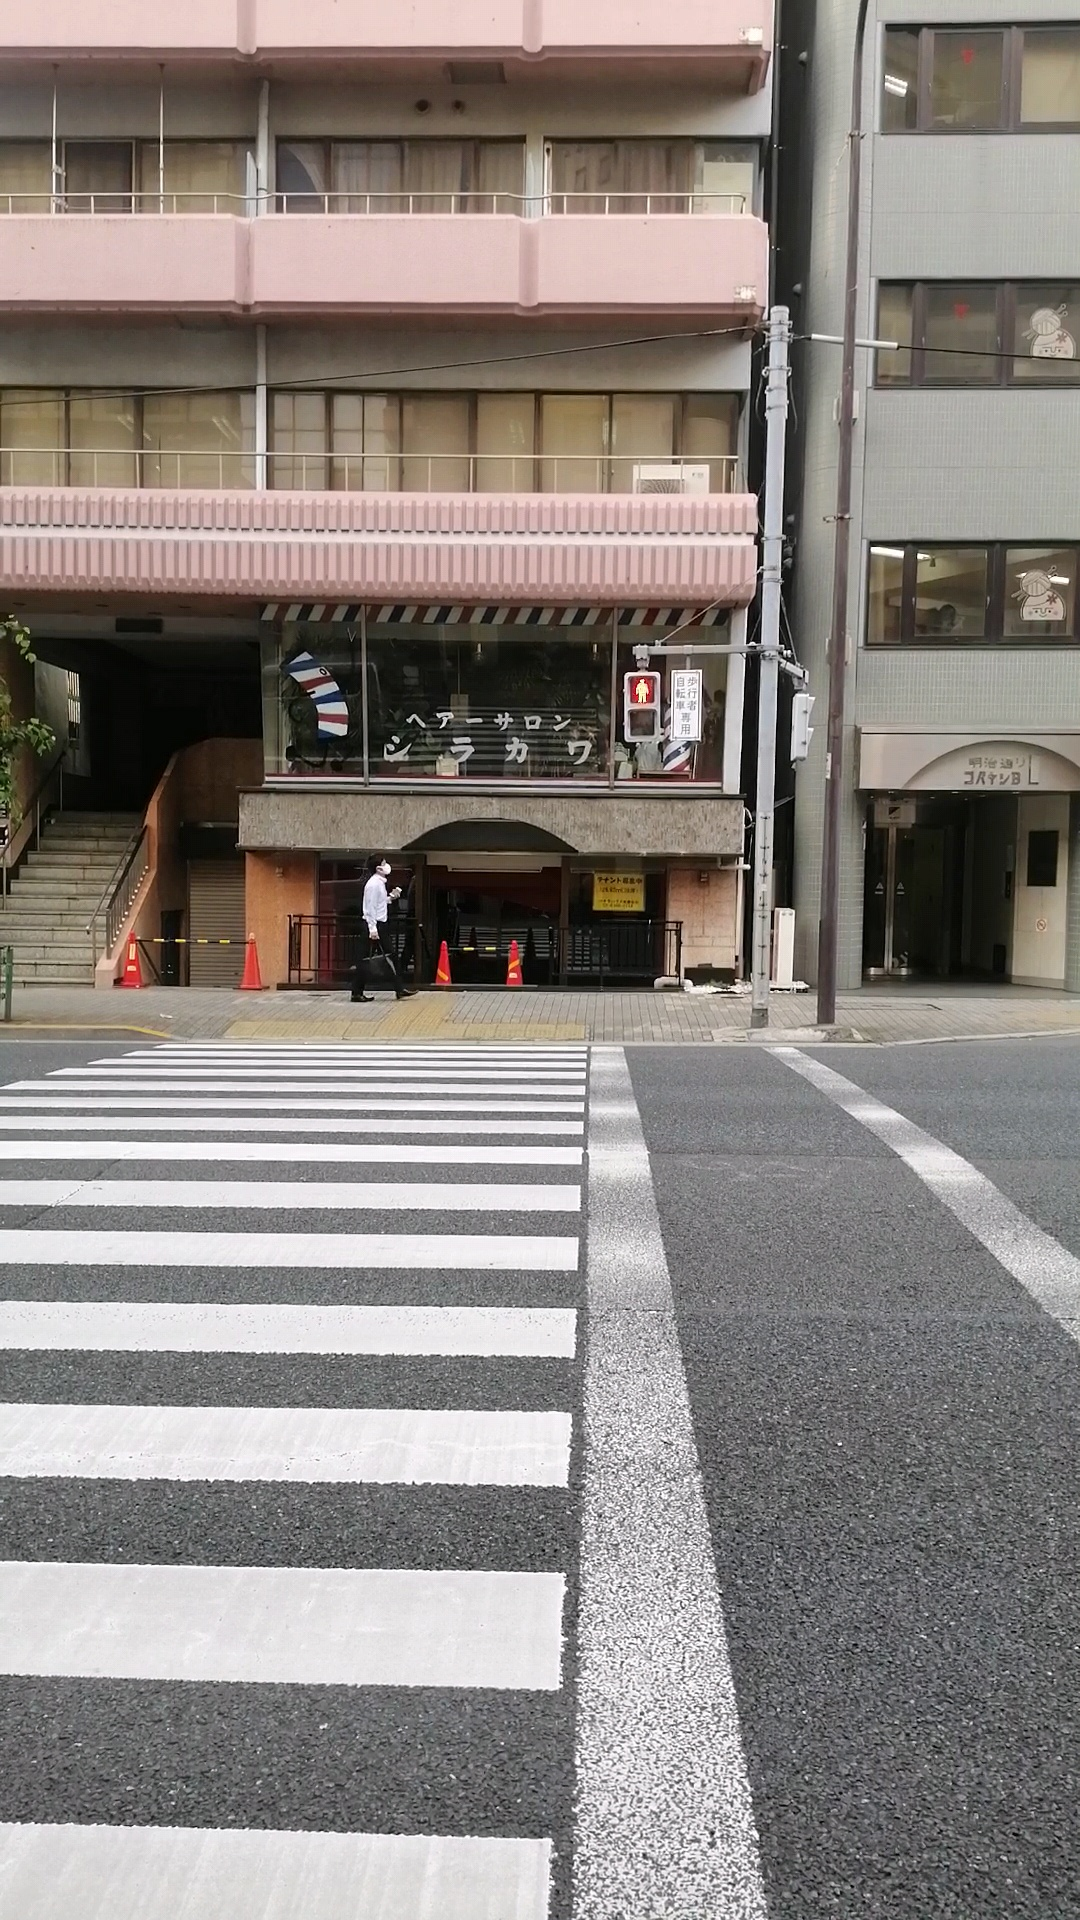red: (618, 671, 662, 742)
